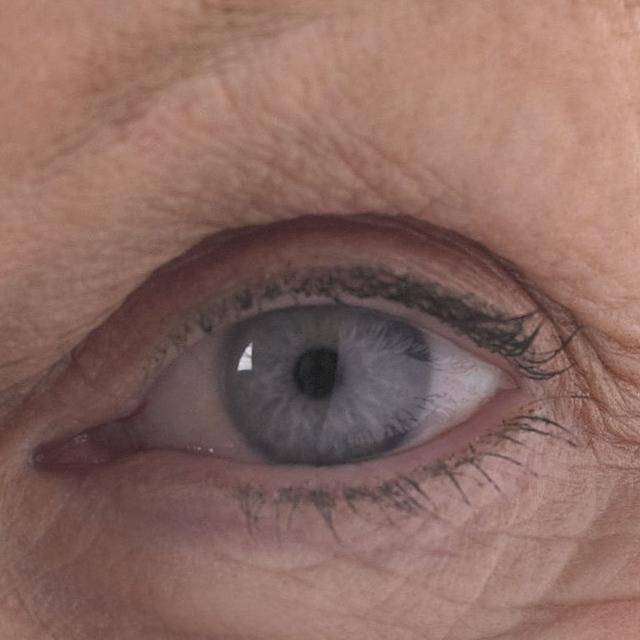eye: (120, 297, 514, 471)
iris: (219, 303, 432, 465)
